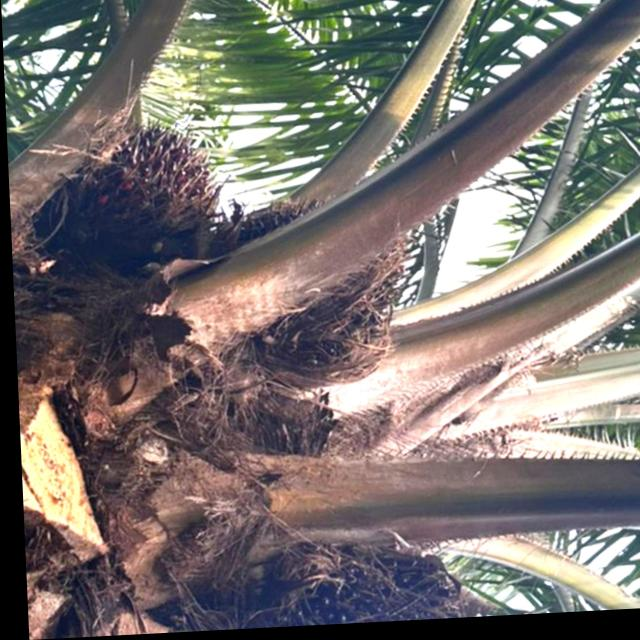unripe: (215, 188, 412, 396), (172, 518, 481, 634), (21, 116, 220, 260)
